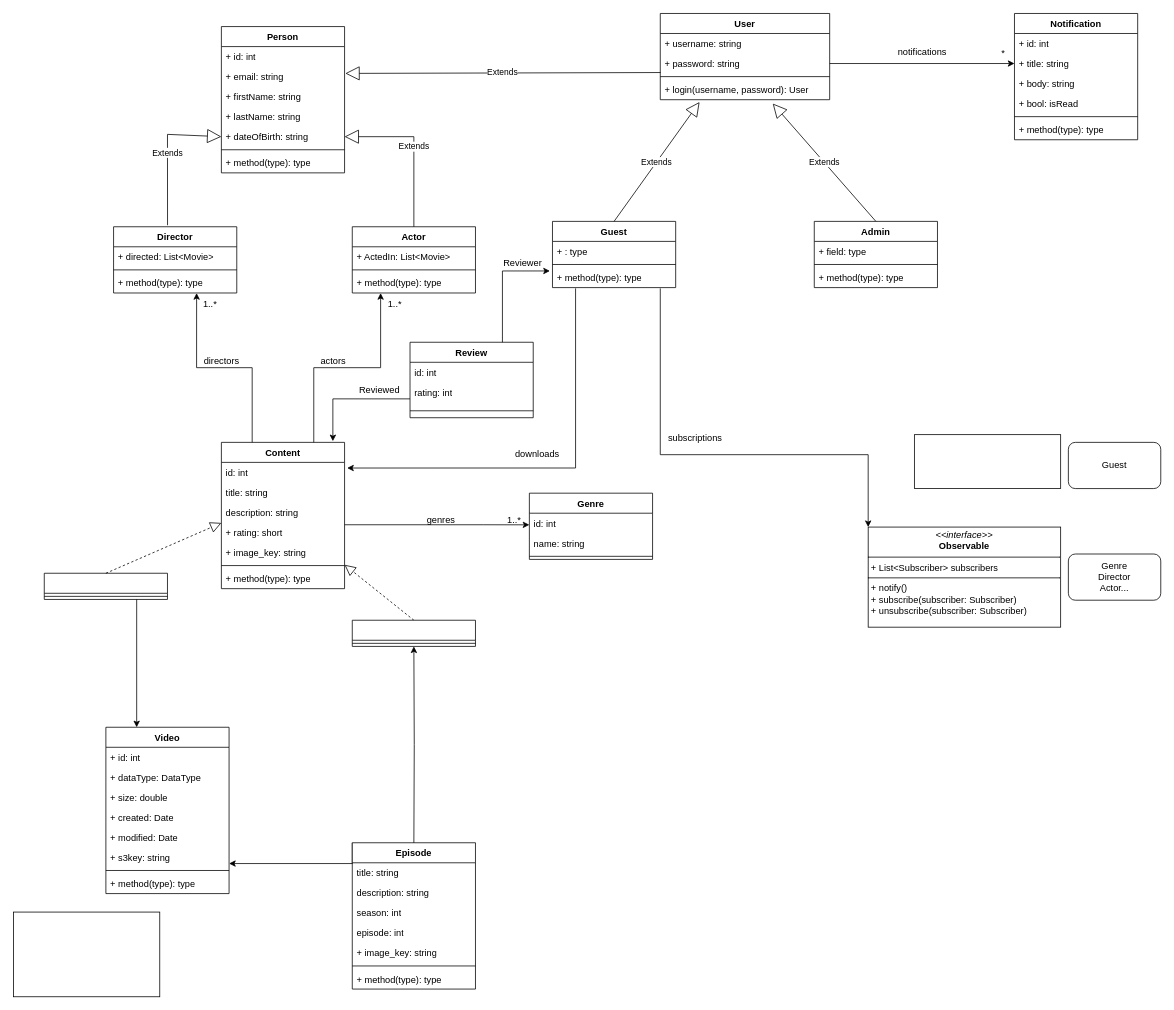
Some shapes in this 1174 by 1010 pixel diagram are drawn without their labels. Here are the shapes that lost their labels. From the top down, the centre of each, then its label:
At point (987, 461): "<<interface>> Subscriber + update(context)".
At point (105, 585): "Movie".
At point (413, 632): "TvShow".
At point (86, 954): "<<enum>> DataType + mp4 + mov + mkv + avi".
